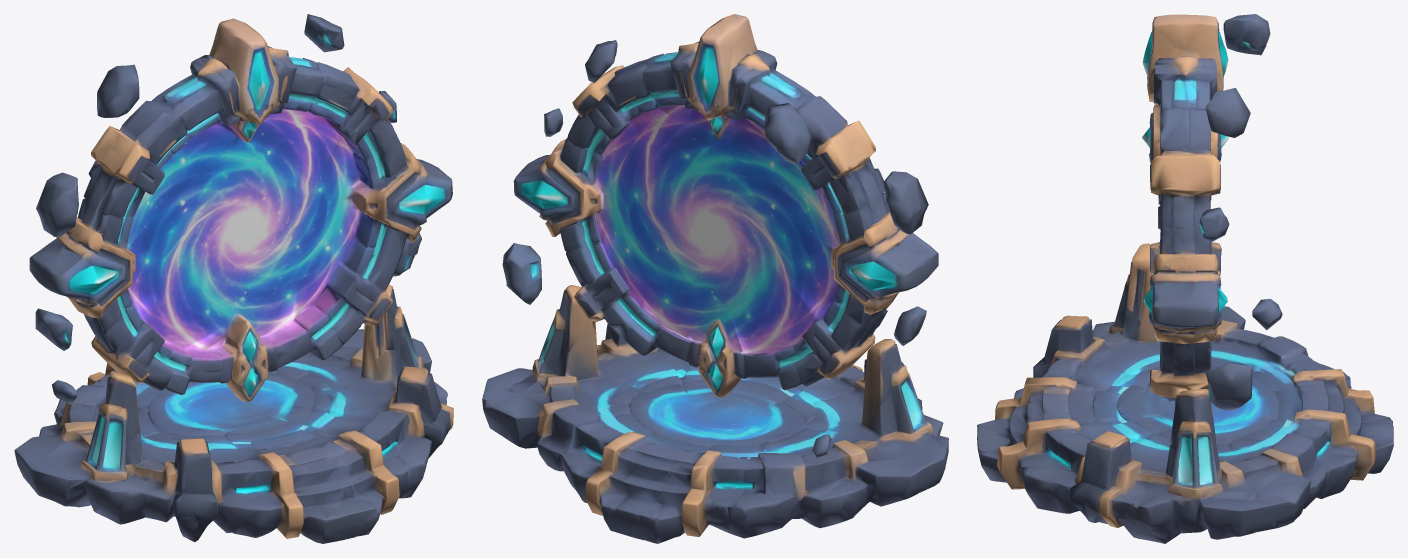
The model's file is portal.glb.
3 views of the same model, side by side, from view 1: azimuth 30°, elevation 25°; view 2: azimuth 150°, elevation 25°; view 3: azimuth 270°, elevation 25° (orthographic).
Parts seen in each view (by area): view 1: tripo_node_d49359cc-5fe4-4002-92c9-faf4db96e7e2; view 2: tripo_node_d49359cc-5fe4-4002-92c9-faf4db96e7e2; view 3: tripo_node_d49359cc-5fe4-4002-92c9-faf4db96e7e2.
Boxes of the visible parts, x1,y1,x2,y2 form: tripo_node_d49359cc-5fe4-4002-92c9-faf4db96e7e2: [14, 14, 453, 543]; tripo_node_d49359cc-5fe4-4002-92c9-faf4db96e7e2: [482, 14, 948, 543]; tripo_node_d49359cc-5fe4-4002-92c9-faf4db96e7e2: [977, 14, 1393, 543].
Bounding box in the file's own units: 1 × 0.9978 × 0.84.
1 material, 1 textured.
